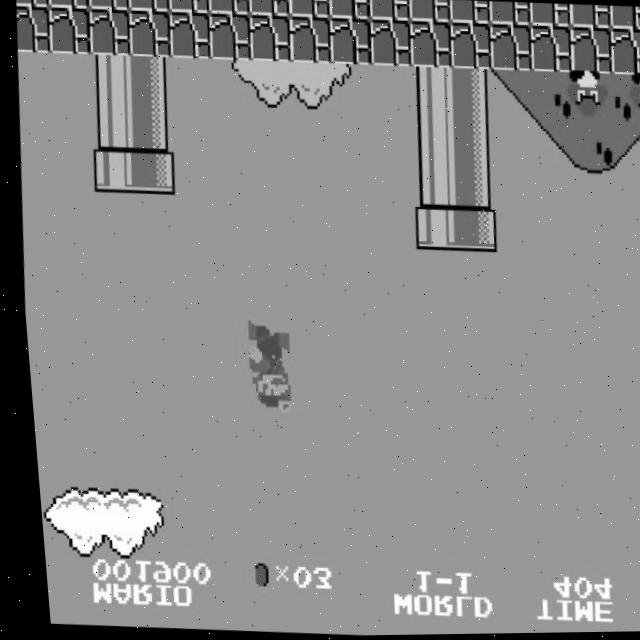0- big_mario: (235, 321, 289, 418)
14- pipe: (88, 100, 134, 149), (127, 56, 173, 105), (408, 67, 454, 116), (448, 114, 494, 163), (87, 55, 133, 103), (128, 102, 174, 150), (409, 159, 455, 207), (408, 113, 454, 161), (448, 69, 494, 117), (449, 161, 495, 208)
15- pipe_head: (409, 204, 455, 253), (128, 148, 174, 196), (449, 206, 495, 254), (88, 147, 134, 194)
17- undestructible_block: (126, 10, 172, 59), (247, 15, 293, 64), (327, 18, 373, 67), (407, 21, 453, 70), (447, 23, 493, 72), (527, 26, 573, 75), (46, 7, 92, 55), (86, 9, 132, 57), (166, 12, 212, 60), (207, 14, 253, 62), (287, 17, 333, 65), (367, 20, 413, 68), (487, 25, 533, 73), (567, 28, 613, 76), (14, 6, 51, 54), (607, 30, 640, 78), (488, 2, 532, 28), (568, 5, 612, 31), (448, 1, 492, 26), (528, 4, 572, 29), (408, 0, 451, 25), (368, 0, 411, 23), (328, 0, 371, 21), (287, 0, 330, 20), (608, 7, 640, 32), (247, 0, 290, 18), (208, 0, 251, 17), (168, 0, 211, 14), (128, 0, 171, 13), (88, 0, 131, 11), (48, 0, 91, 9), (16, 0, 50, 8)
8- goomba: (560, 71, 609, 122), (622, 74, 640, 125)
